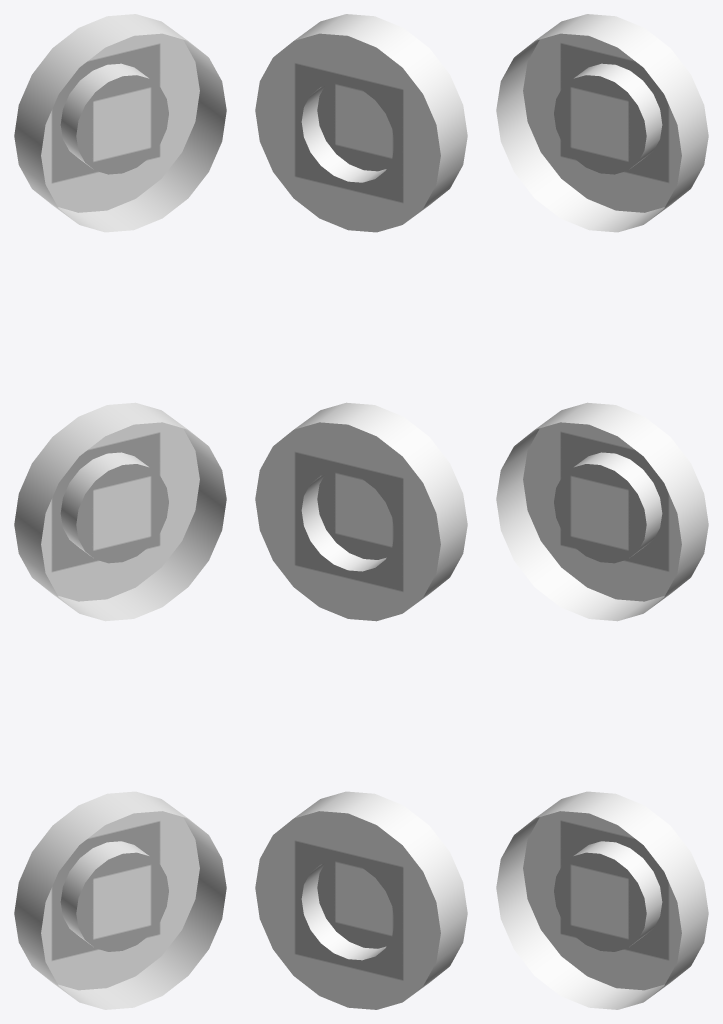
Rendered from Frame Dragger Phase 1.fbx.
3 views of the same model, side by side, from view 1: azimuth 30°, elevation 25°; view 2: azimuth 150°, elevation 25°; view 3: azimuth 330°, elevation 25° (orthographic).
Parts seen in each view (by area): view 1: GripNub (1), GripNub (2), GripNub; view 2: GripNub (1), GripNub (2), GripNub; view 3: GripNub (1), GripNub (2), GripNub.
Boxes of the visible parts, box(x1,y1,x2,y2) form: GripNub (1): box(14, 791, 226, 1009); GripNub (2): box(14, 14, 226, 232); GripNub: box(14, 402, 226, 621); GripNub (1): box(255, 791, 467, 1009); GripNub (2): box(255, 14, 467, 232); GripNub: box(255, 402, 467, 621); GripNub (1): box(496, 791, 708, 1009); GripNub (2): box(496, 14, 708, 232); GripNub: box(496, 402, 708, 621).
Bounding box in the file's own units: 0.5 × 2.5 × 0.125.
